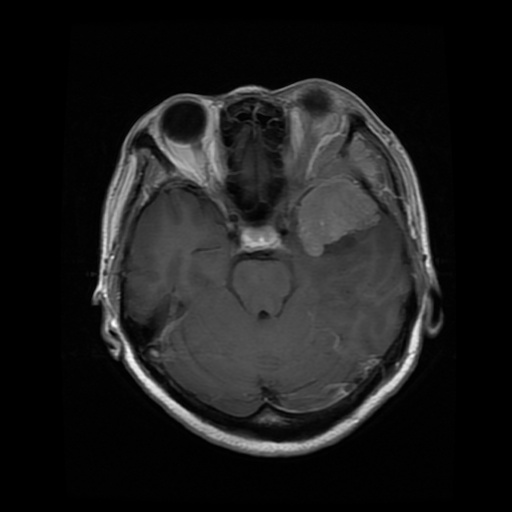meningioma: (298, 136, 390, 258)
